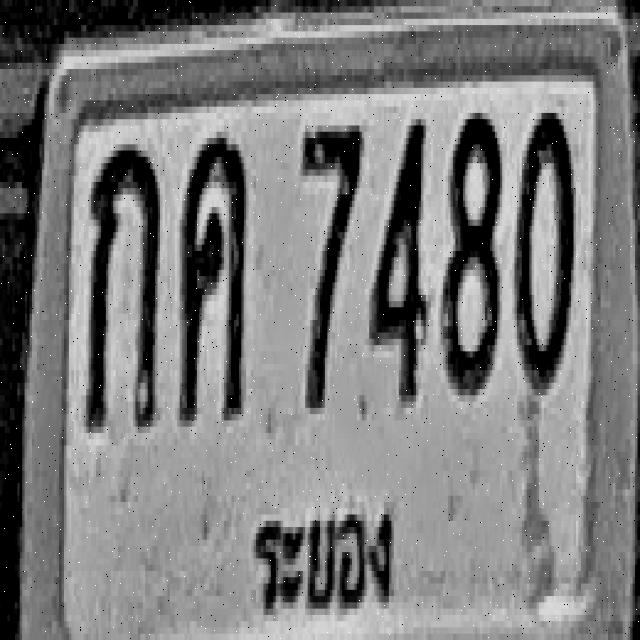0: (514, 107, 574, 389)
10GorGai: (85, 142, 159, 430)
13KhorKhwai: (180, 132, 246, 420)
4: (370, 114, 426, 402)
7: (300, 122, 362, 410)
8: (442, 107, 501, 395)
Rayong: (245, 490, 406, 640)
